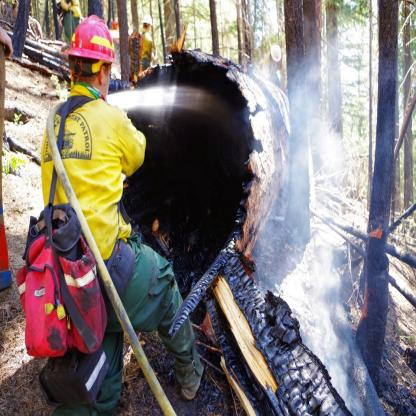Helmet: (61, 19, 115, 100)
